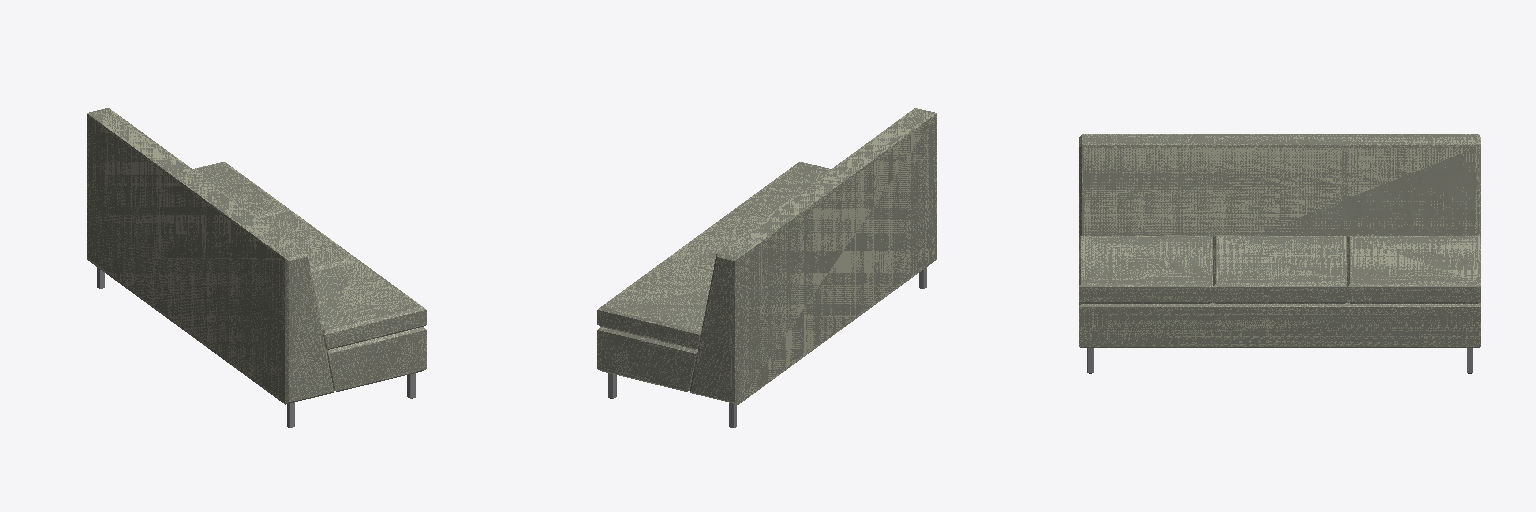
3 renders of one model, left to right at view 1: azimuth 30°, elevation 25°; view 2: azimuth 150°, elevation 25°; view 3: azimuth 270°, elevation 25°, orthographic.
Visible parts, largest first — view 1: mesh9.001_mesh9-geometry, mesh10.001_mesh10-geometry, mesh11.001_mesh11-geometry; view 2: mesh9.001_mesh9-geometry, mesh10.001_mesh10-geometry, mesh11.001_mesh11-geometry; view 3: mesh9.001_mesh9-geometry, mesh10.001_mesh10-geometry, mesh11.001_mesh11-geometry.
Part boxes in pixels (left/top/right/bottom): mesh9.001_mesh9-geometry: left=87, top=108, right=333, bottom=404; mesh10.001_mesh10-geometry: left=193, top=162, right=426, bottom=349; mesh11.001_mesh11-geometry: left=326, top=327, right=426, bottom=391; mesh9.001_mesh9-geometry: left=690, top=108, right=936, bottom=404; mesh10.001_mesh10-geometry: left=597, top=162, right=830, bottom=349; mesh11.001_mesh11-geometry: left=597, top=327, right=697, bottom=391; mesh9.001_mesh9-geometry: left=1079, top=134, right=1480, bottom=236; mesh10.001_mesh10-geometry: left=1079, top=236, right=1480, bottom=303; mesh11.001_mesh11-geometry: left=1079, top=302, right=1480, bottom=347.
Bounding box in the file's own units: 0.3405 × 0.4058 × 0.8482.
4 materials, 1 textured.